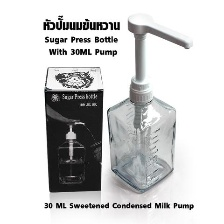bottle: (105, 86, 183, 194), (54, 137, 86, 189)
